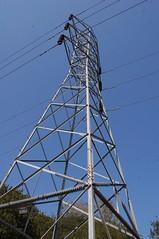power_tower: (9, 12, 139, 239)
